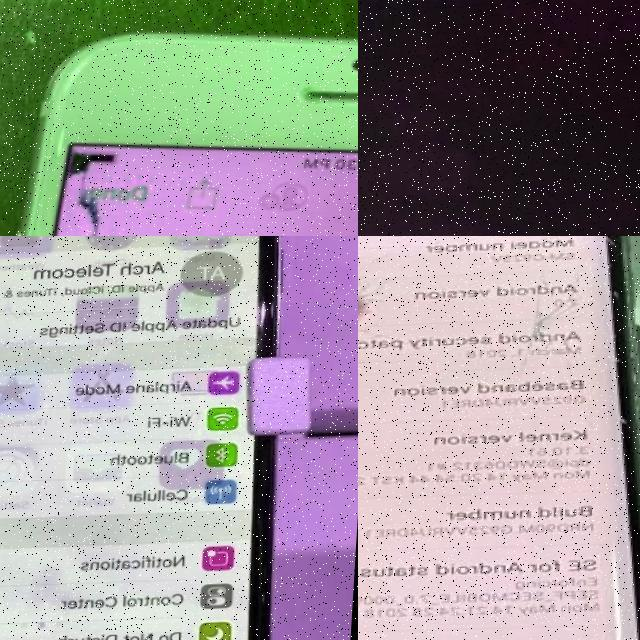dead pixel: (13, 116, 156, 236)
screen crack: (503, 236, 618, 361)
